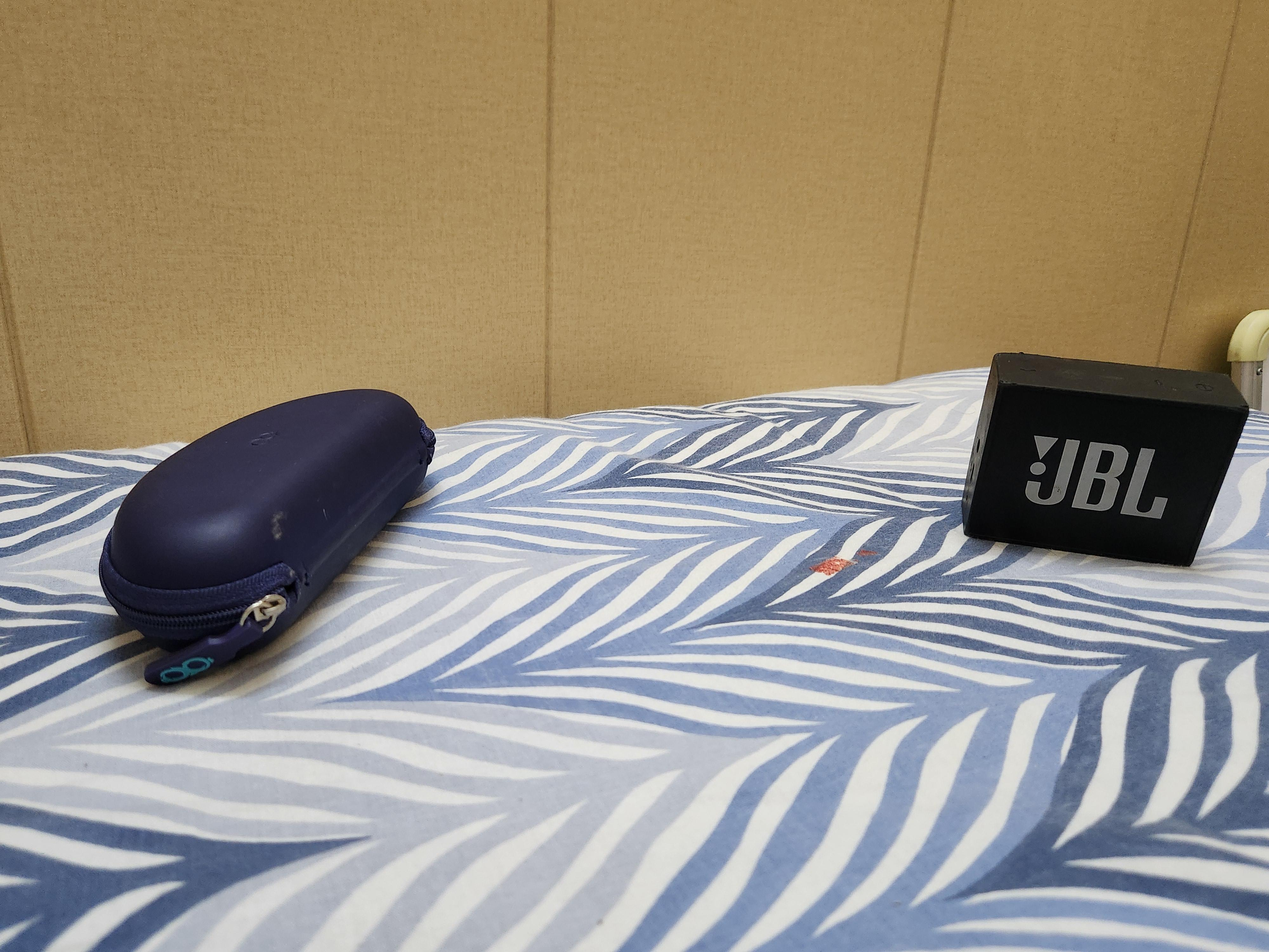case: (97, 387, 438, 689)
speaker: (964, 349, 1250, 569)
